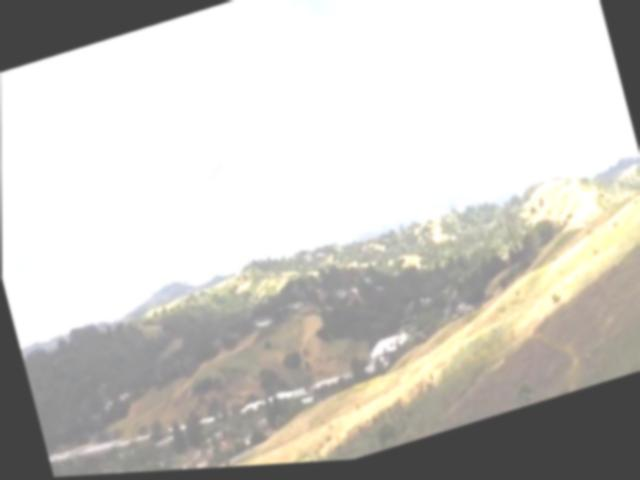iha: (195, 162, 230, 194)
